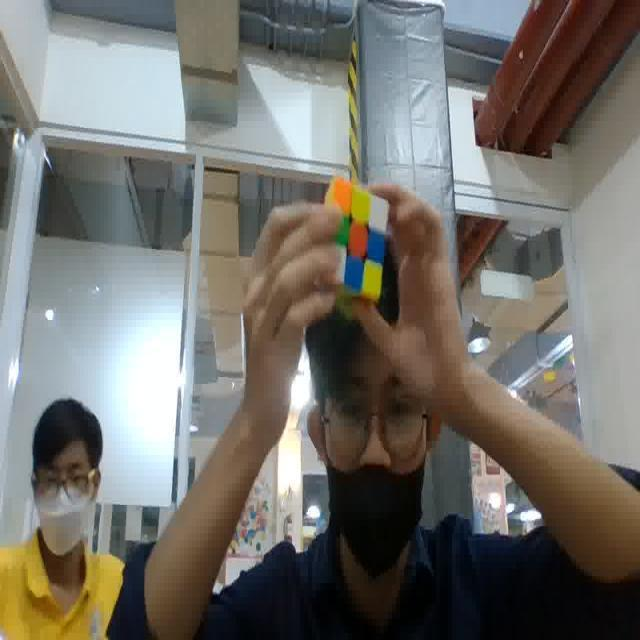Rub: (312, 173, 393, 308)
